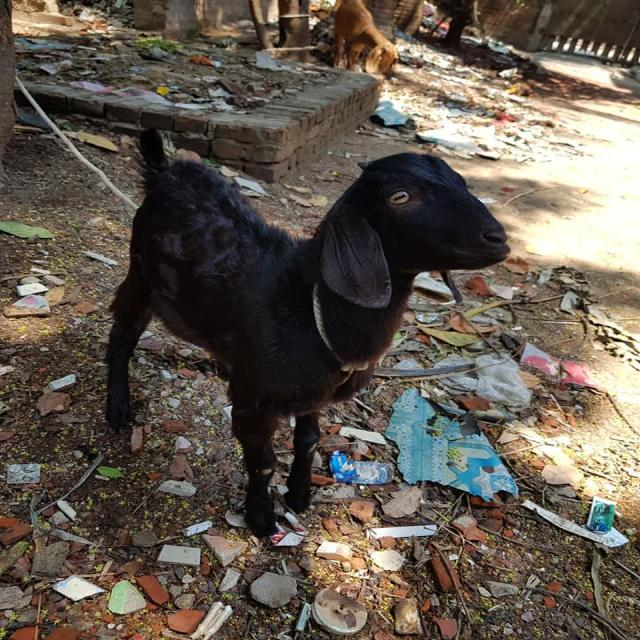Goat: (103, 125, 512, 538), (331, 0, 402, 77)
